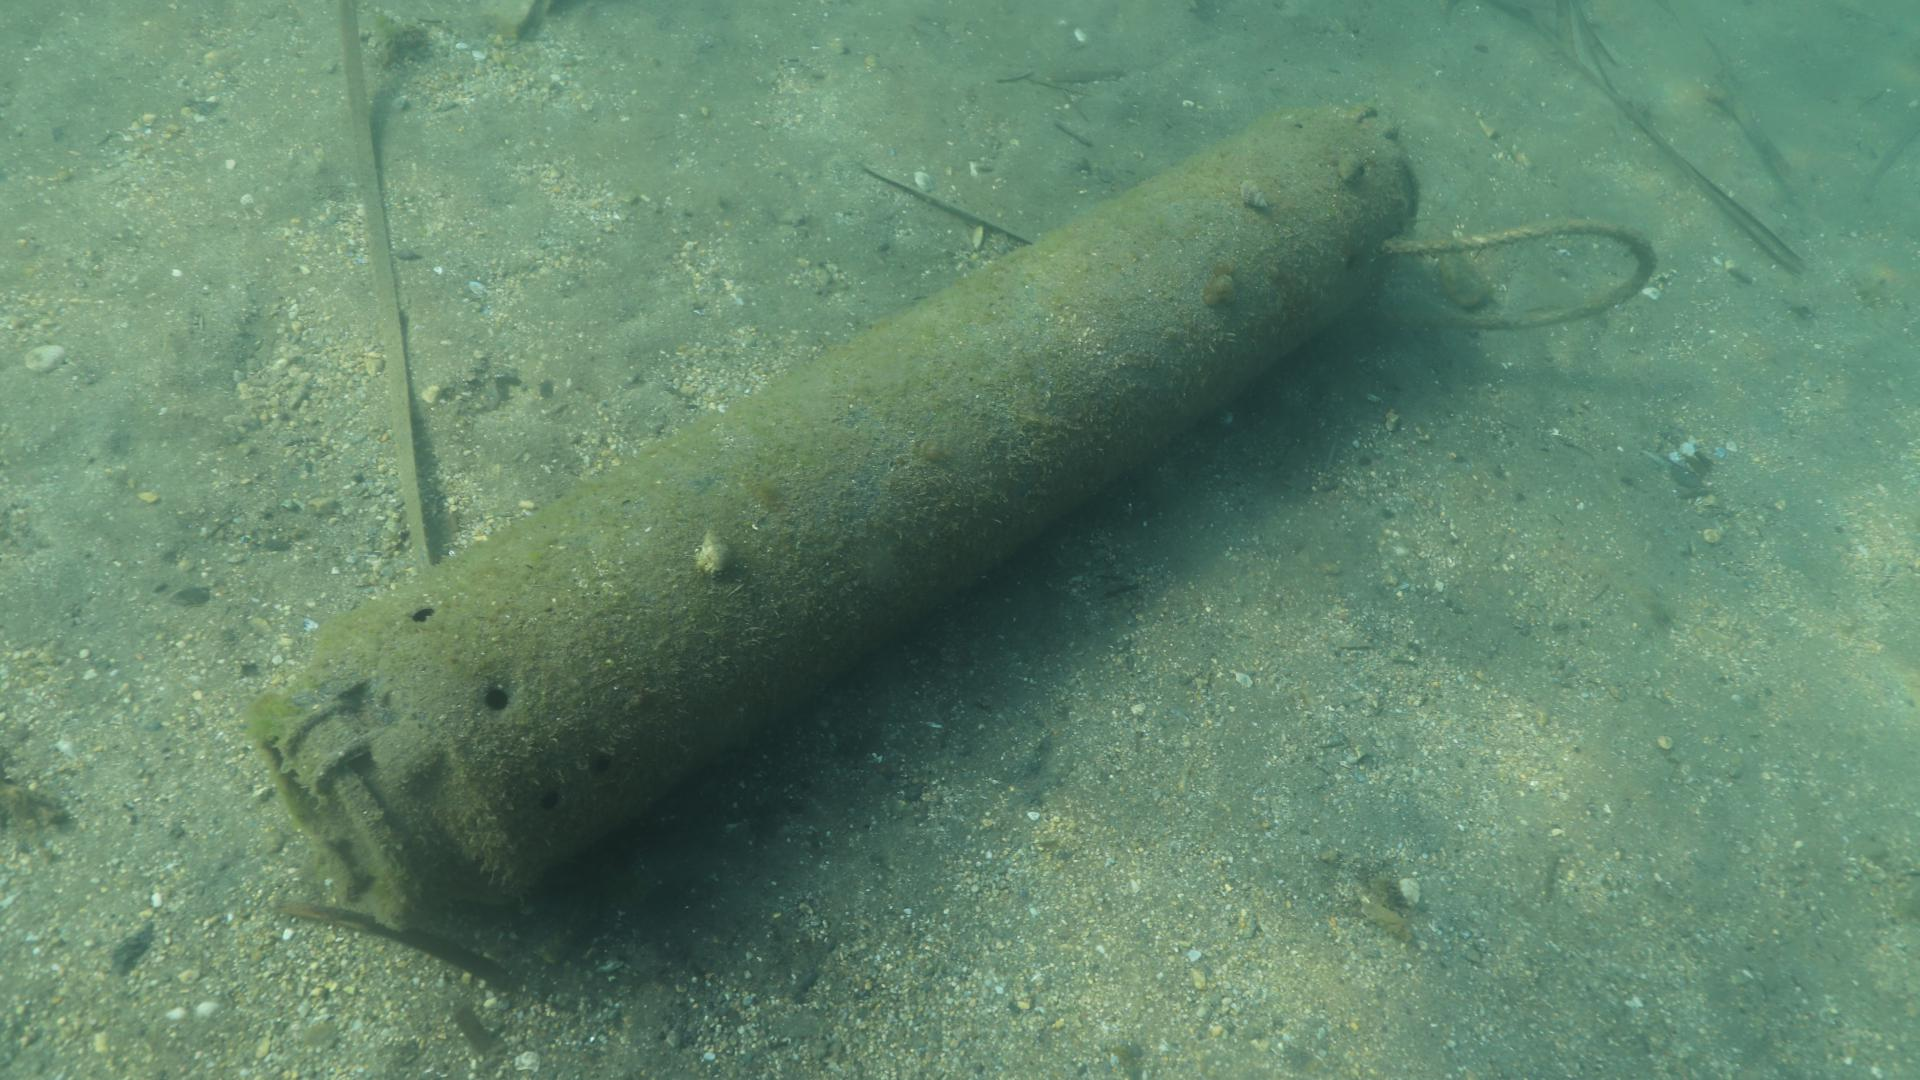eel fish trap: (248, 100, 1422, 952)
rope: (1377, 219, 1656, 328)
